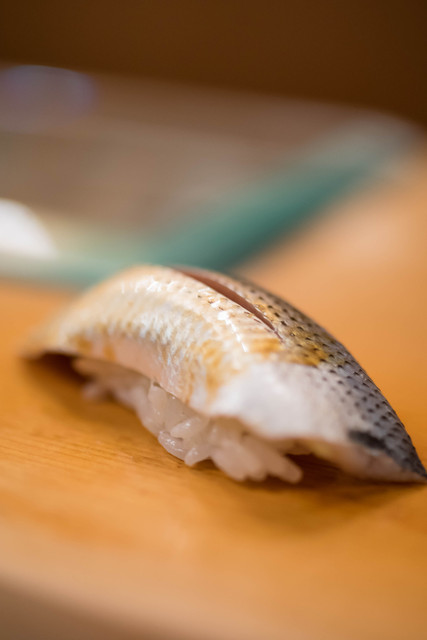spotted-shad: (22, 257, 426, 497)
